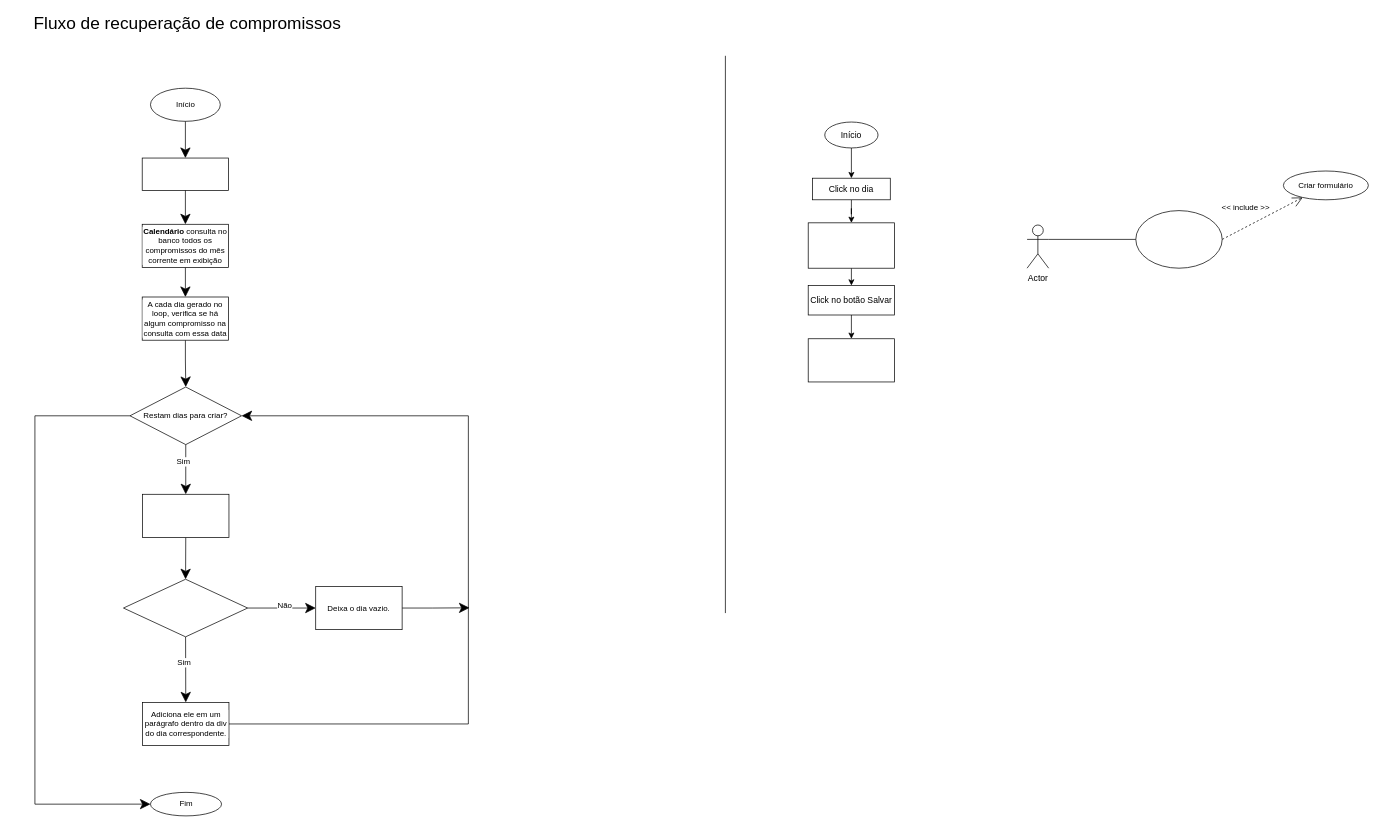
This 1381x829 diagram has some shape labels left out. The shapes that lost their labels are listed below. From the top down, each one's centre as x and y in pixels, then its label:
(185,173): Carregamento da página
(851,245): Abre formulário de cadastro de compromisso
(1178,239): Cadastrar novo compromisso
(851,360): informações são armazenadas no banco de dados
(185,515): Cria <div> do dia em questão
(185,608): Há compromisso nesse dia?
